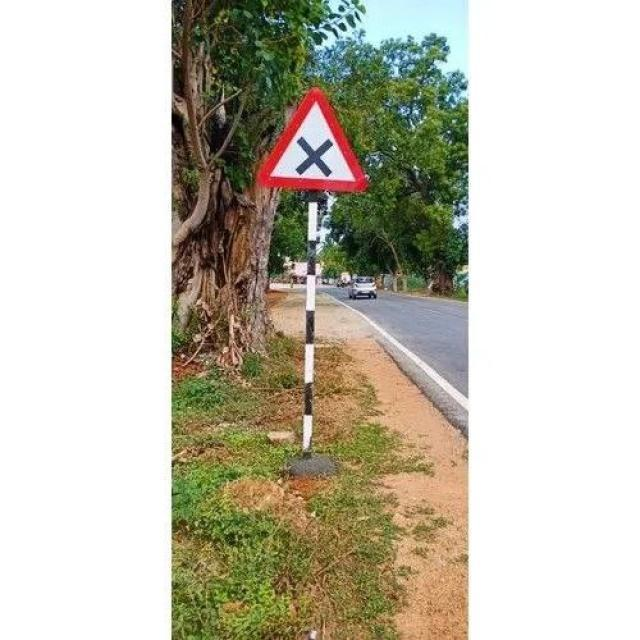cross road: (255, 82, 368, 194)
